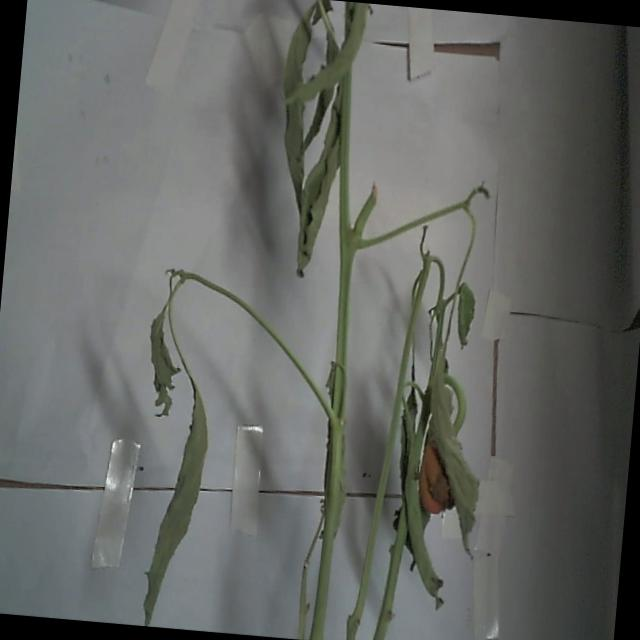Leaf: (414, 312, 500, 565), (142, 374, 216, 630), (268, 0, 330, 249), (142, 288, 187, 414)
